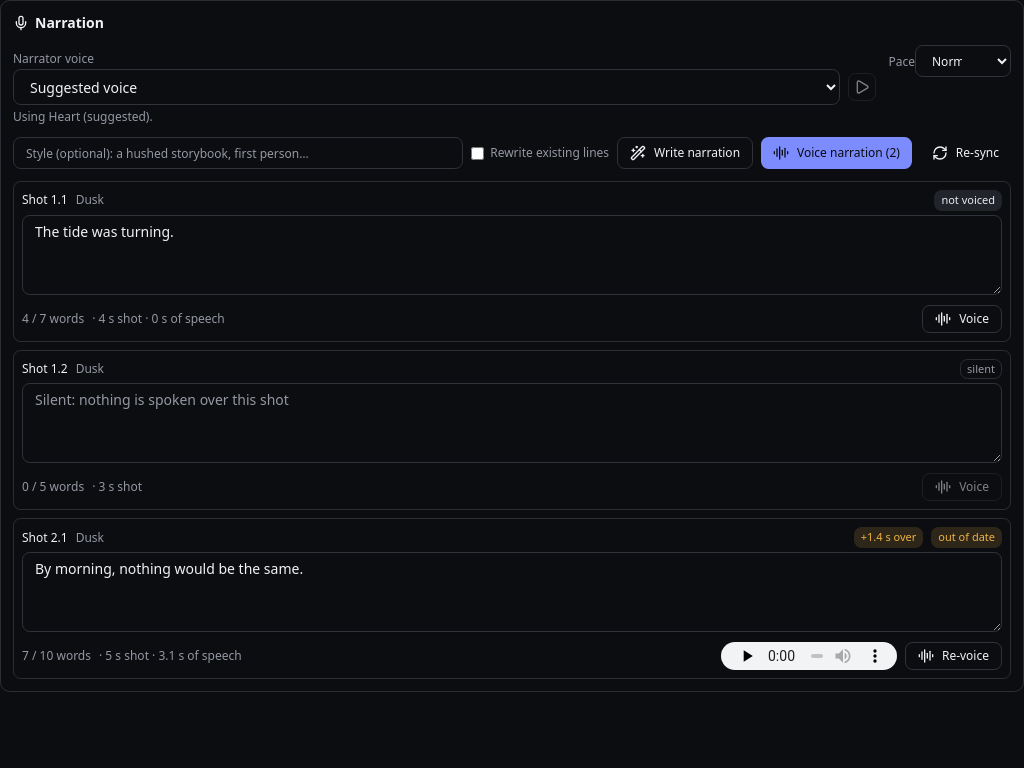
it: an LLM failure is shown instead of the result
The image size is (1024, 768).
Click the button "Write narration": click(685, 153) left=617, top=137, right=753, bottom=169
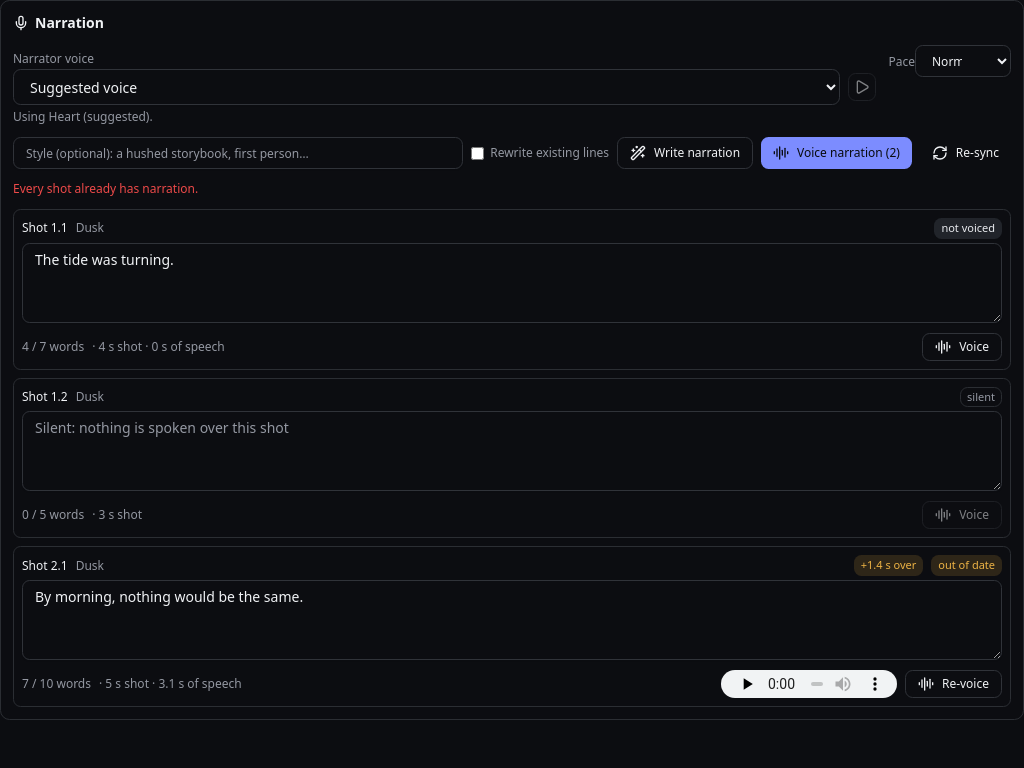
Result: the text "Every shot already has narration." is shown at left=13, top=180, right=198, bottom=197
